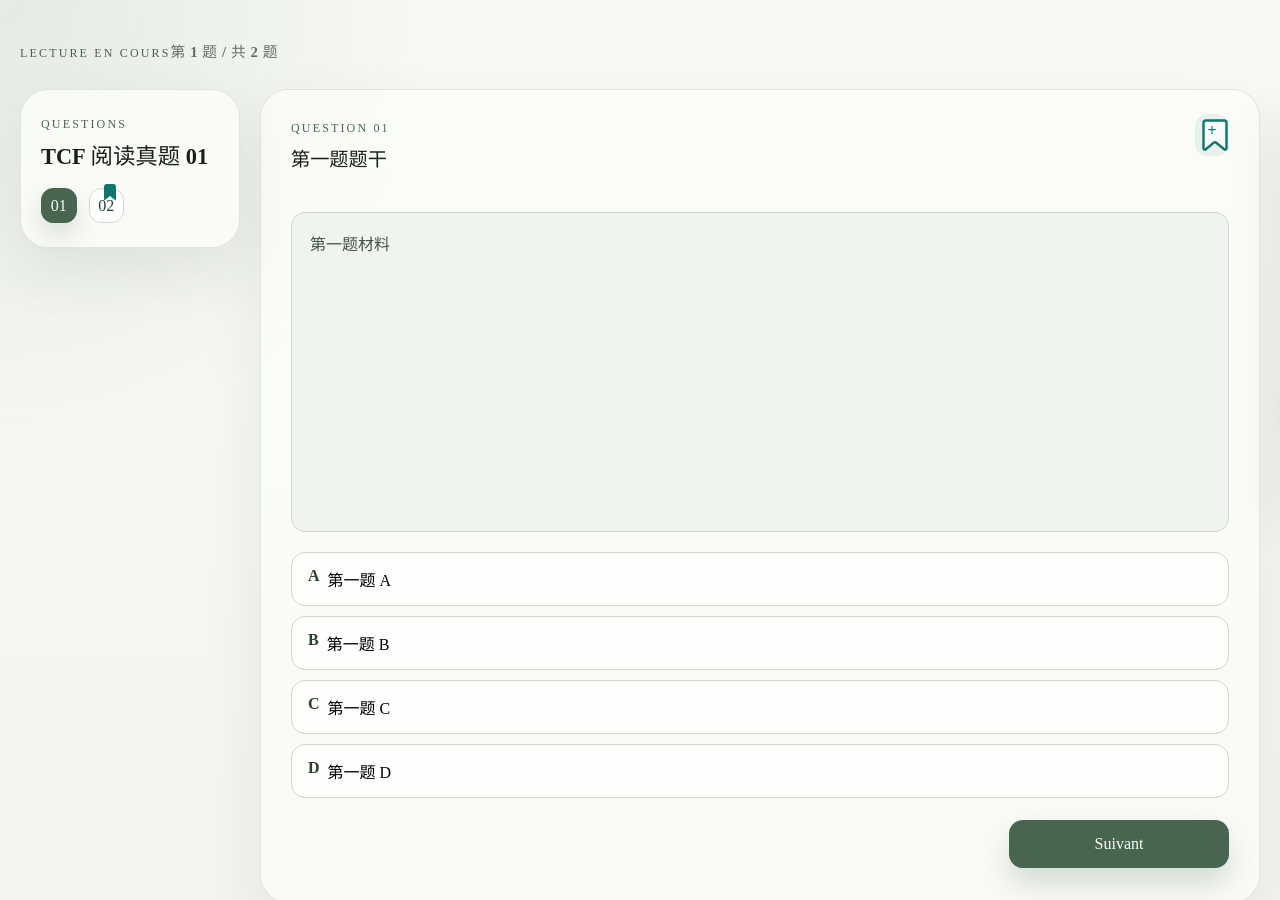
Scenario: PracticePage › restores a saved answer when navigating back to a previous question
expect the heading "第一题题干" is shown: met, box [291,149,387,170]
Click the button named "B第一题 B": (358, 645) [291,616,1229,670]
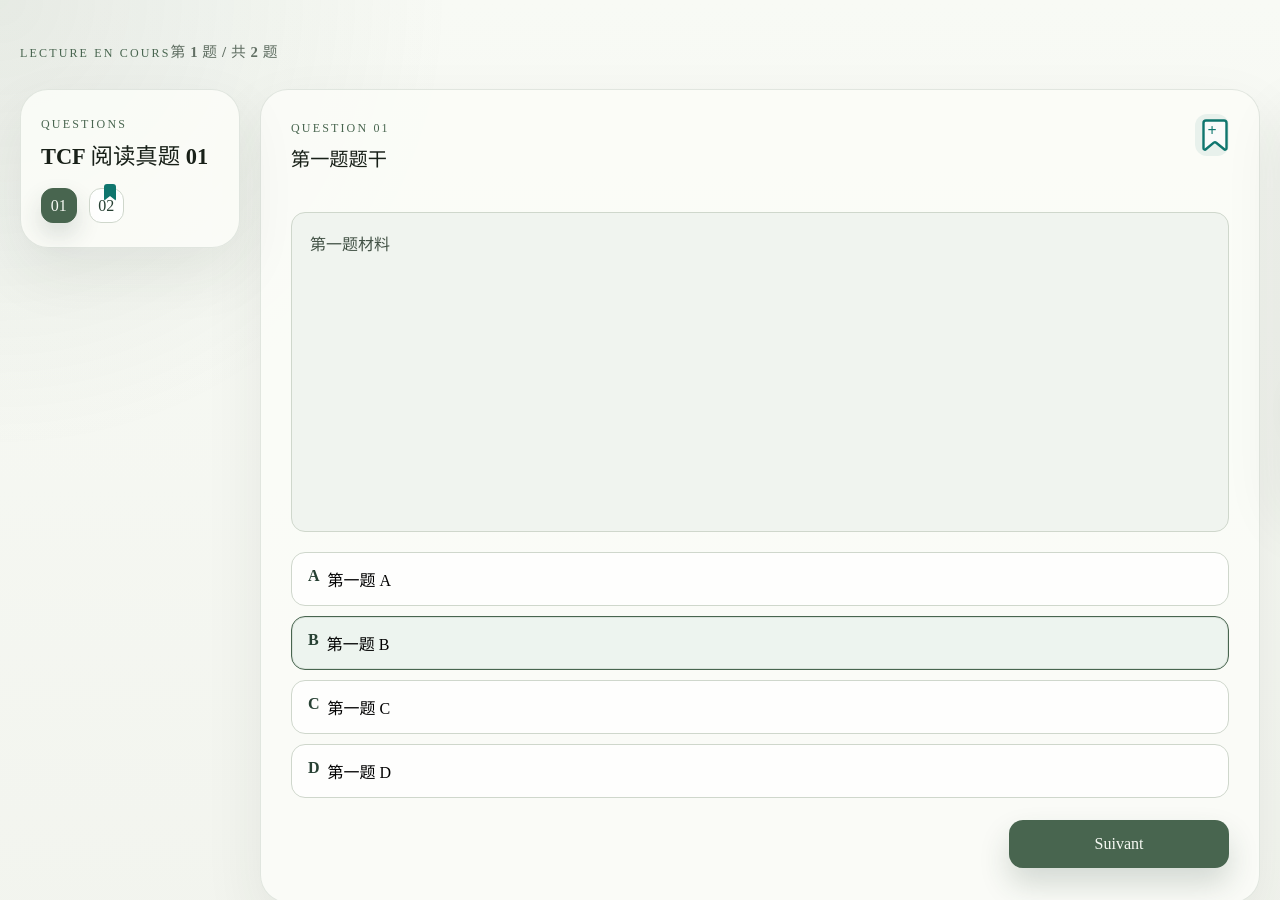
Click the button "02": (106, 206) [88,188,124,223]
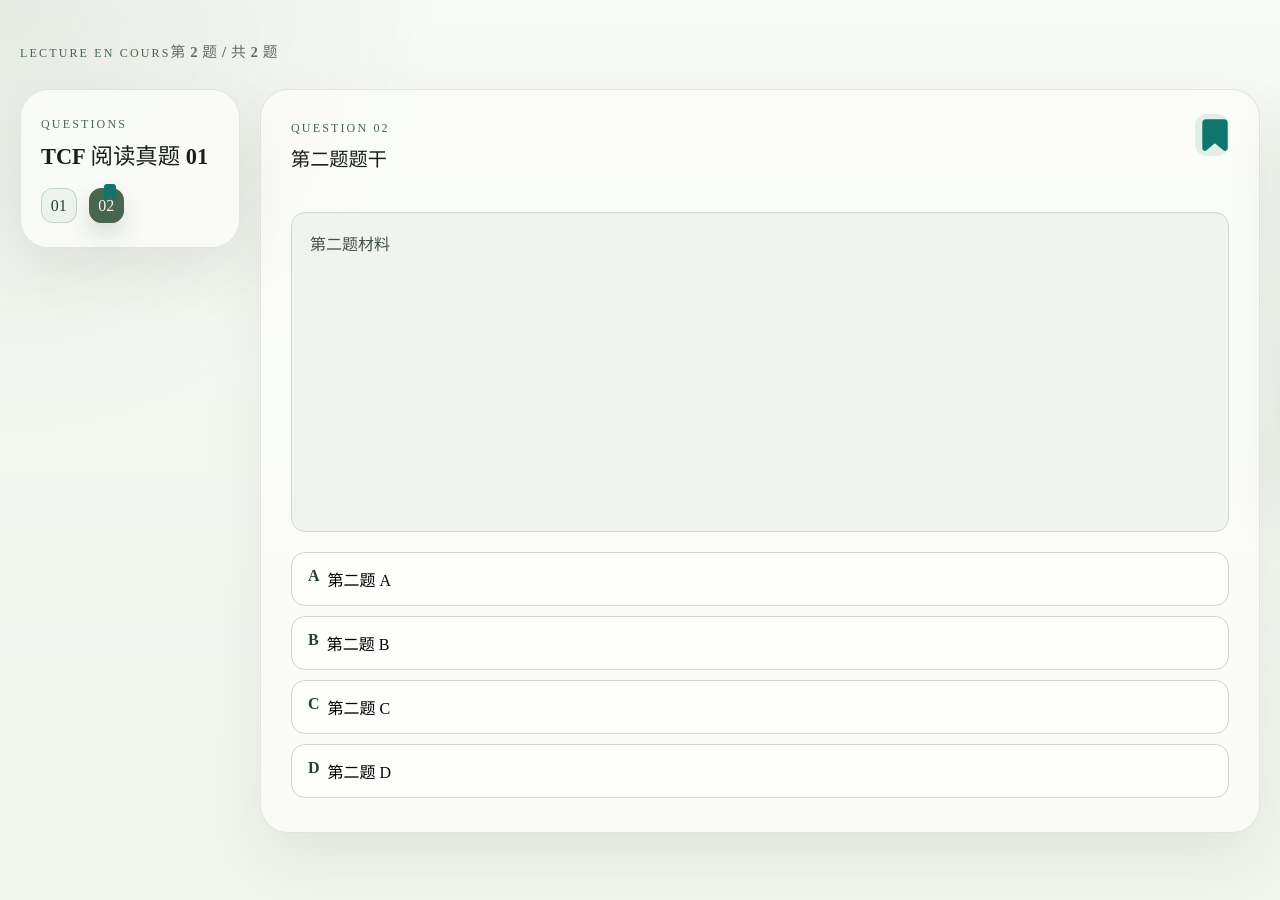
expect the heading "第二题题干" is shown: met, box [291,149,387,170]
Click the button "01": (59, 206) [41,188,76,223]
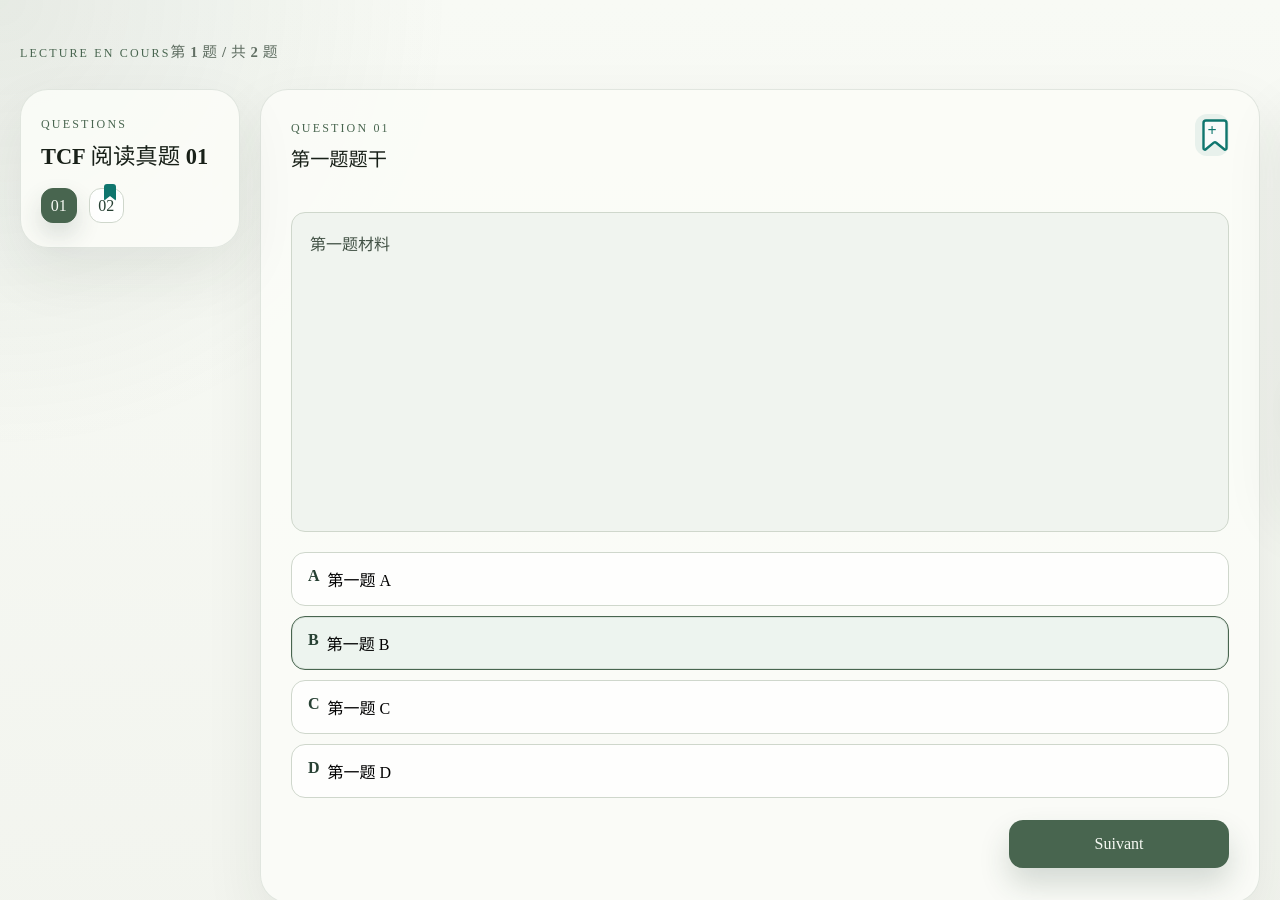
expect the heading "第一题题干" is shown: met, box [291,149,387,170]
